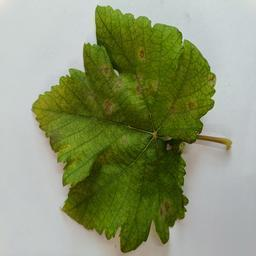Powdery-Mildew: (59, 134, 92, 172), (132, 68, 164, 105), (170, 91, 204, 118), (95, 61, 124, 91), (98, 93, 123, 117), (157, 191, 175, 221), (40, 93, 60, 119), (122, 128, 139, 145), (136, 45, 153, 61)
